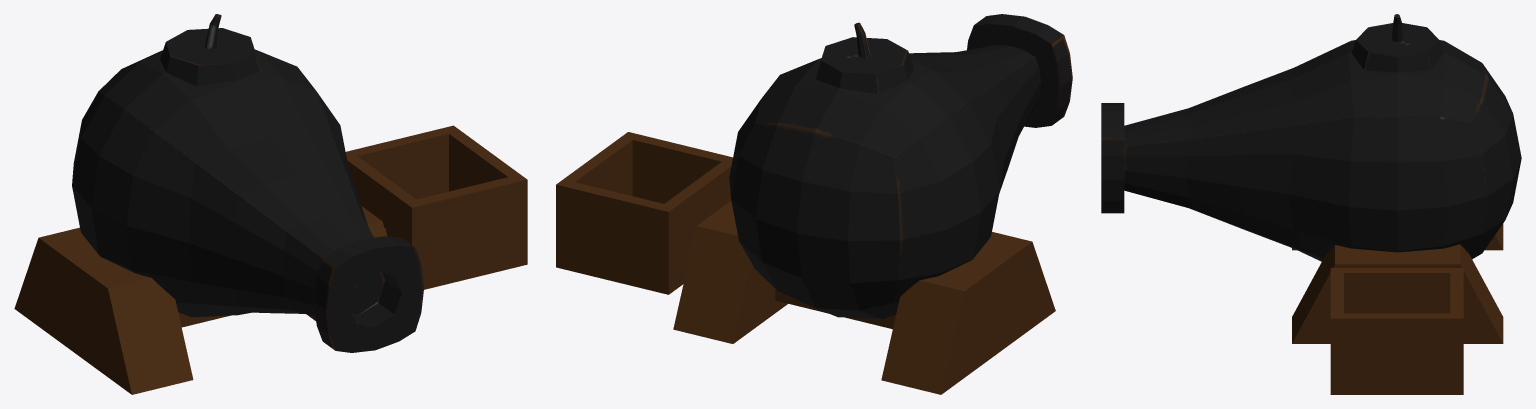
The model's file is canonBig.fbx.
The picture shows the model from 3 angles, left to right: view 1: azimuth 30°, elevation 25°; view 2: azimuth 150°, elevation 25°; view 3: azimuth 270°, elevation 25°; orthographic projection. The views are drawn at different scales.
Visible parts, largest first — view 1: body, bottom; view 2: body, bottom; view 3: body, bottom.
Boxes of the visible parts, x1=… form: body: x1=72, y1=14, x2=424, y2=352; bottom: x1=14, y1=125, x2=527, y2=394; body: x1=729, y1=14, x2=1072, y2=319; bottom: x1=556, y1=132, x2=1055, y2=394; body: x1=1101, y1=14, x2=1521, y2=261; bottom: x1=1292, y1=223, x2=1503, y2=394.
Size of the model in its own units: 1564 by 1084 by 1519.
1 material, 1 textured.
